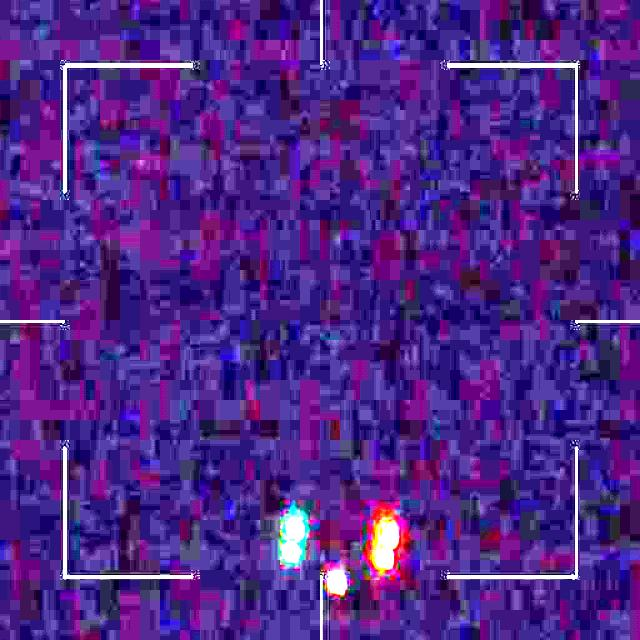bird: (282, 516, 398, 592)
